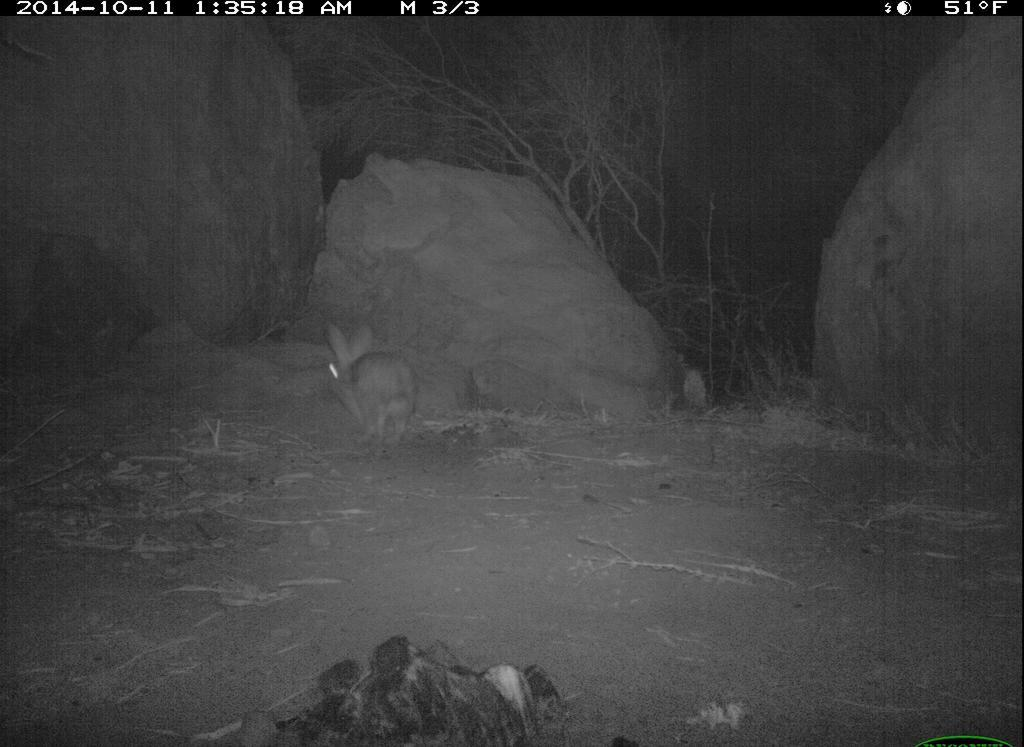rabbit: (309, 317, 423, 451)
